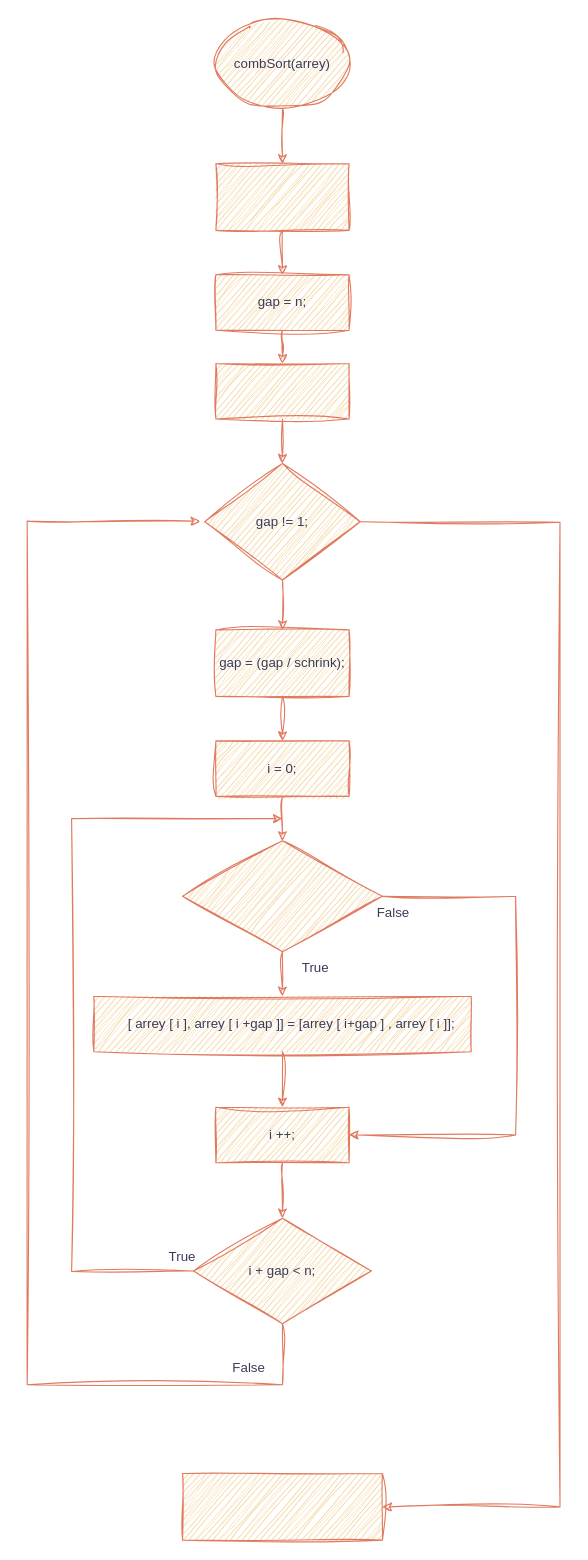
Image size: 588x1560. Some labels were removed from this diagram. The box of each missing label's shape, as (x1, y1, x2, y2) in pixels:
arrey [ i ] > arrey [ i + gap ];: (181, 840, 382, 952)
n = arrey.lenght;: (215, 163, 349, 230)
Return 0;: (181, 1472, 382, 1540)
shrink = 1.3;: (215, 362, 349, 419)
